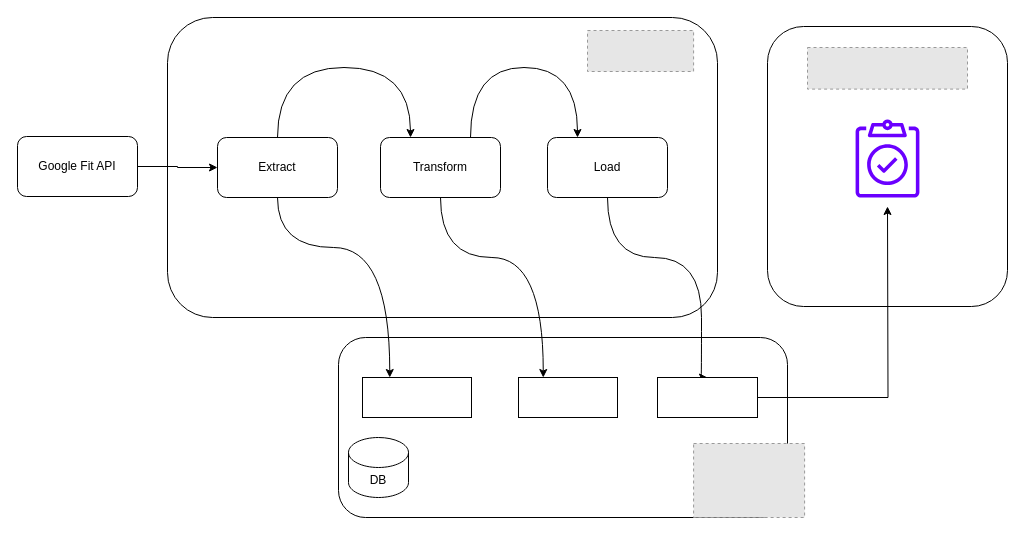
The diagram is 1025 pixels wide and 535 high, and some of its shapes have lost their labels. Grey dashed boxes stand in for pictures. The box of each missing label's shape, as (x1, y1, x2, y2) in pixels:
Bronze: (362, 376, 472, 418)
Gold: (656, 376, 758, 418)
Silver: (518, 376, 618, 418)
